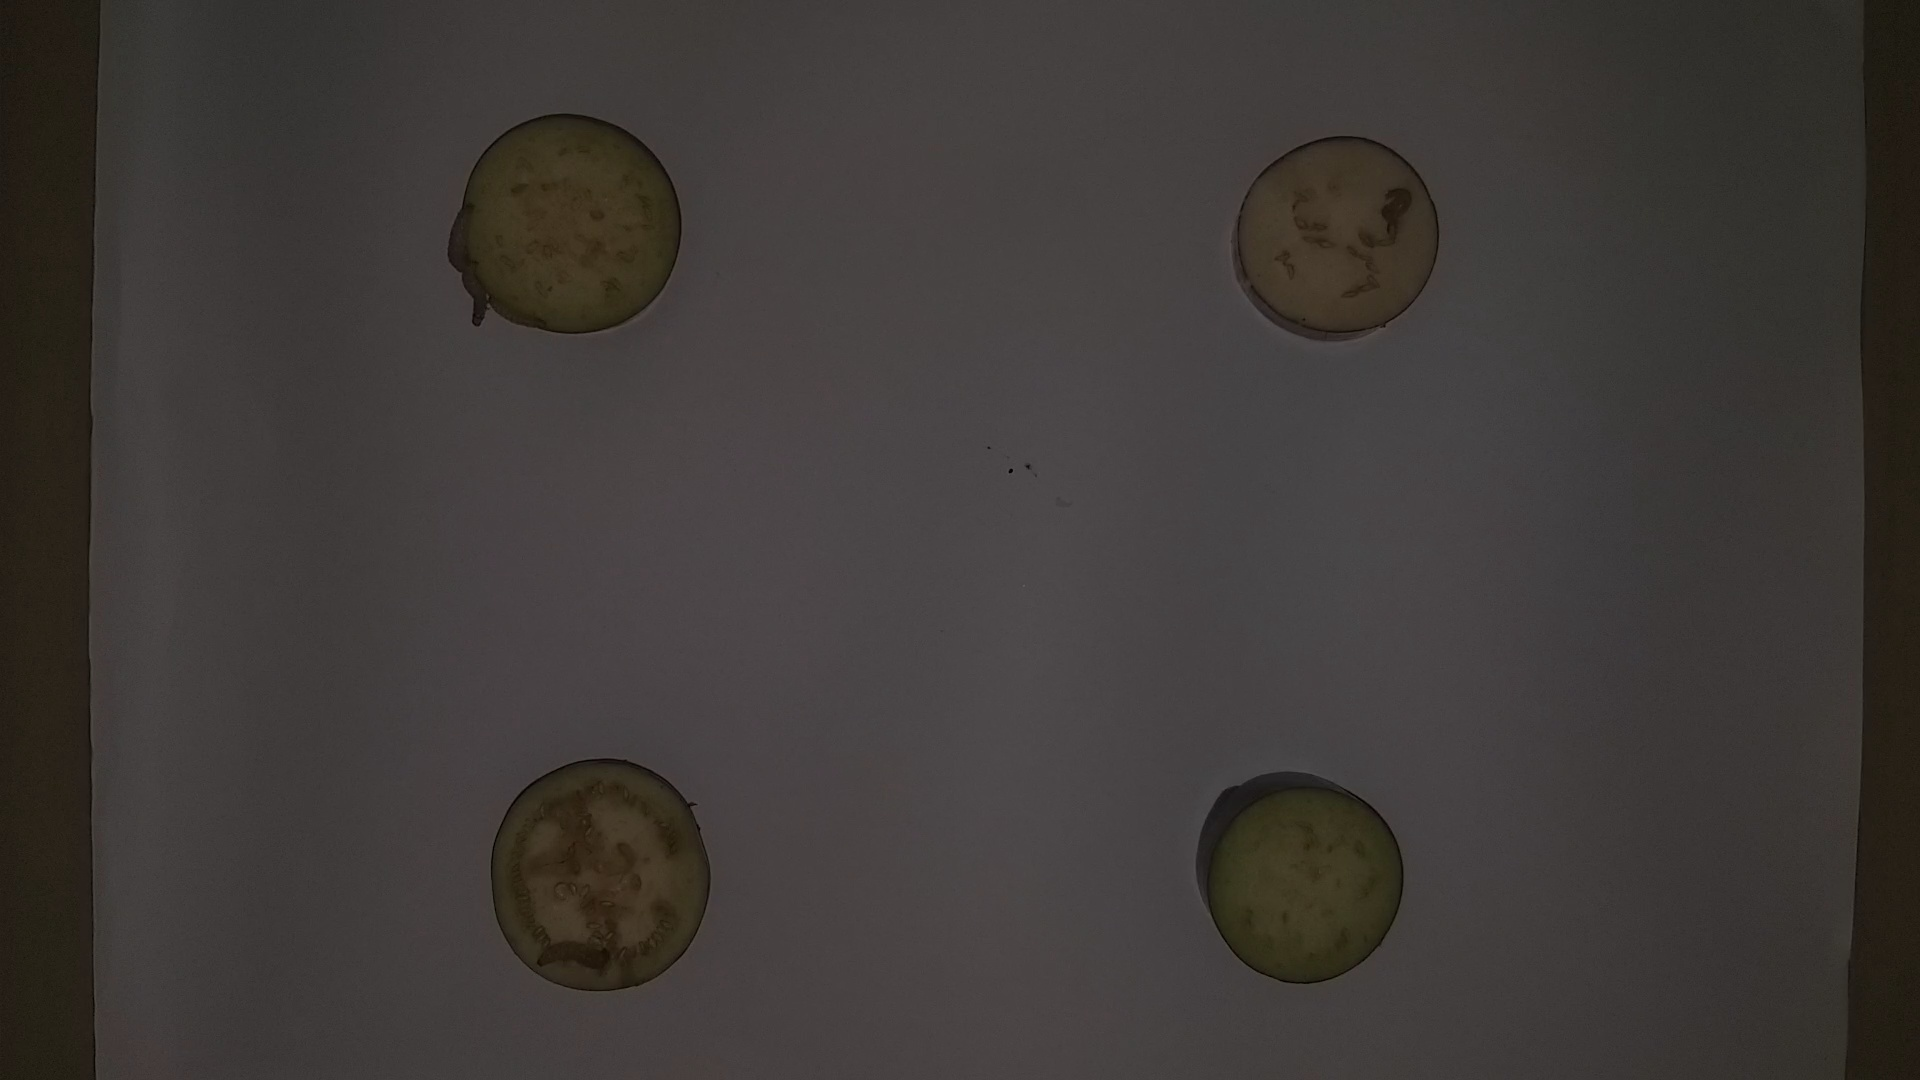efsb: (527, 927, 613, 980), (481, 287, 553, 332), (456, 252, 493, 332), (446, 200, 477, 276), (1378, 185, 1419, 229)
eggplant: (487, 752, 723, 1001), (458, 111, 694, 344), (1188, 765, 1414, 989), (1226, 124, 1447, 349)
